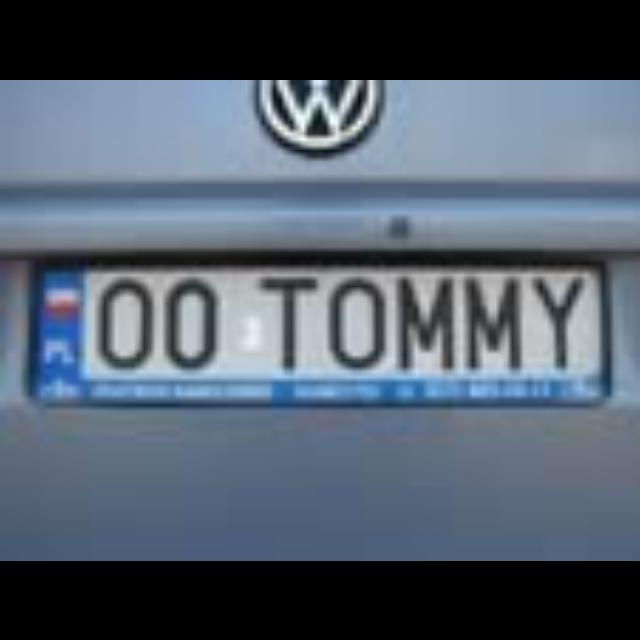pl_license_plate: (29, 260, 595, 368)
